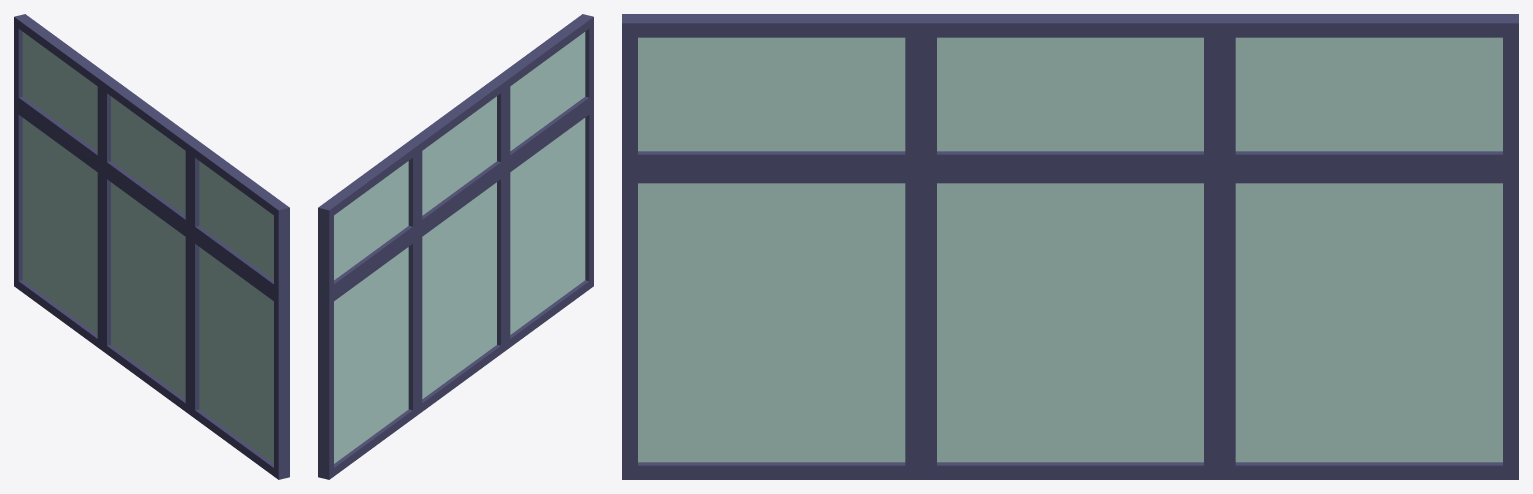
Rendered from Ventana.fbx.
The picture shows the model from 3 angles, left to right: view 1: azimuth 30°, elevation 25°; view 2: azimuth 150°, elevation 25°; view 3: azimuth 270°, elevation 25°; orthographic projection. The views are drawn at different scales.
Visible parts, largest first — view 1: Cube; view 2: Cube; view 3: Cube.
Boxes of the visible parts, bbox=[...] form: Cube: bbox=[14, 14, 289, 479]; Cube: bbox=[318, 14, 593, 479]; Cube: bbox=[622, 14, 1518, 479].
Bounding box in the file's own units: 13.9 × 317 × 564.
